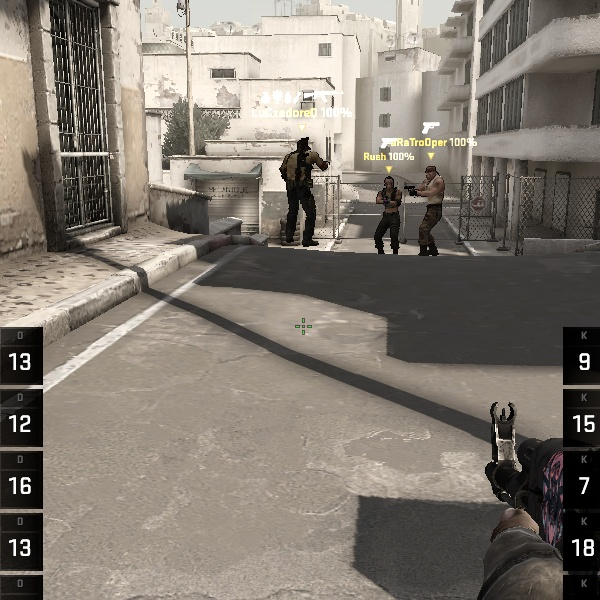t_body: (272, 136, 330, 246), (410, 164, 446, 257), (374, 175, 404, 257)
t_head: (296, 137, 311, 153), (424, 165, 438, 181), (384, 176, 396, 192)
